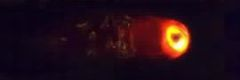keyhole: (169, 31, 184, 44)
